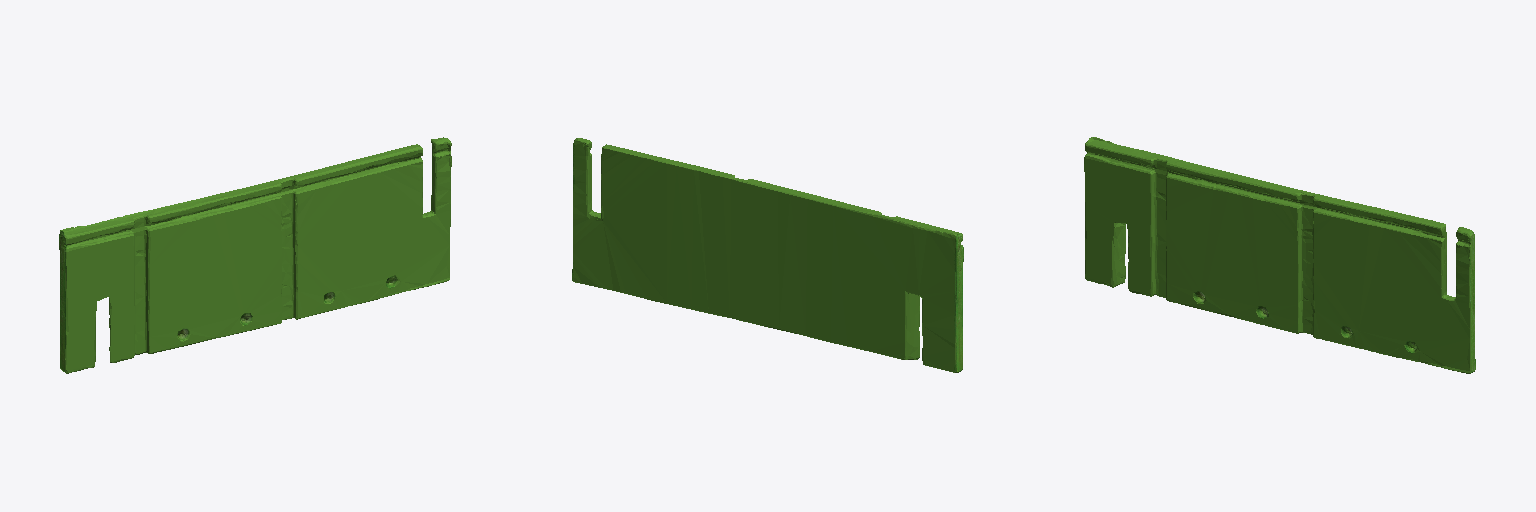
The picture shows the model from 3 angles: view 1: azimuth 30°, elevation 25°; view 2: azimuth 150°, elevation 25°; view 3: azimuth 330°, elevation 25°; orthographic projection.
Bounding box in the file's own units: 0.23 × 0.0813 × 0.0087.
1 materials, 1 textured.